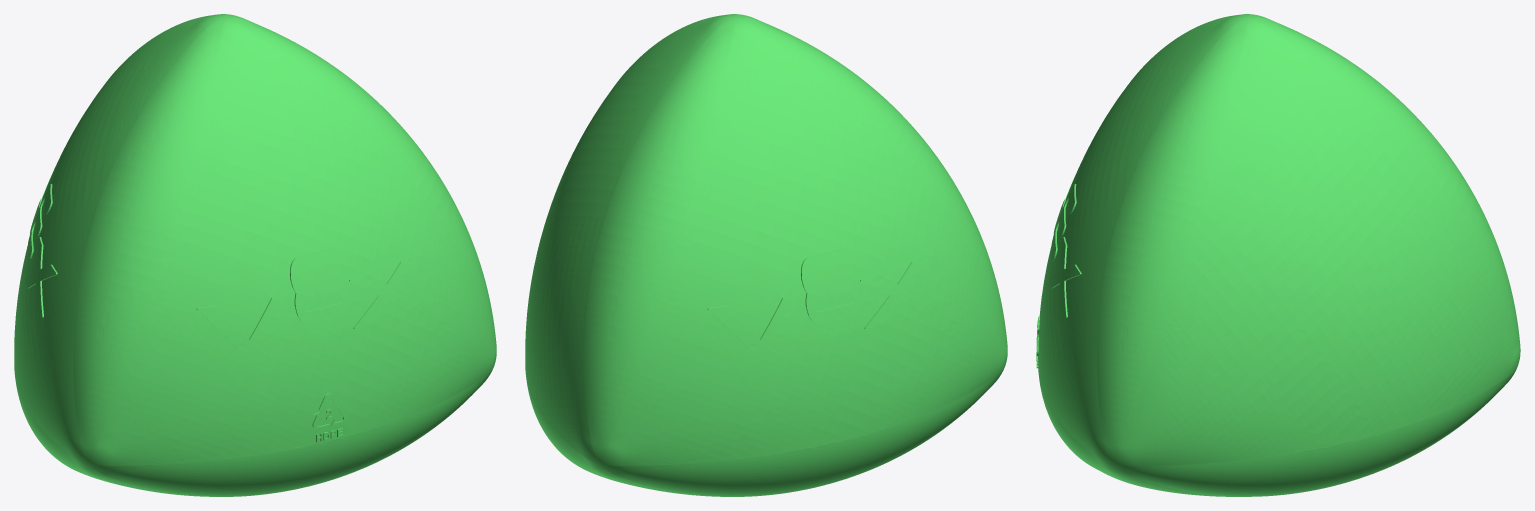
File: untivextriballsadtled.fbx
3 renders of one model, left to right at view 1: azimuth 30°, elevation 25°; view 2: azimuth 150°, elevation 25°; view 3: azimuth 270°, elevation 25°, orthographic.
Parts seen in each view (by area): view 1: acorn; view 2: acorn; view 3: acorn.
Part boxes in pixels (x1=…): acorn: x1=14, y1=14, x2=496, y2=496; acorn: x1=525, y1=14, x2=1007, y2=496; acorn: x1=1036, y1=14, x2=1520, y2=496.
Size of the model in its own units: 1585 by 1570 by 1578.
